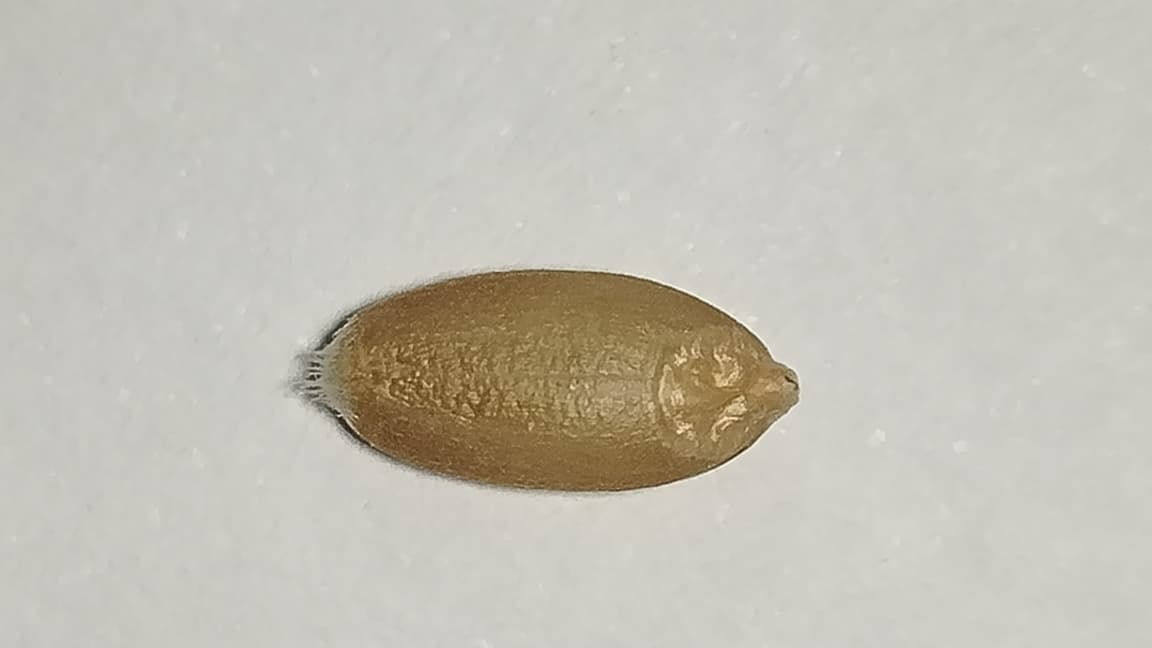healthy: (302, 267, 798, 494)
